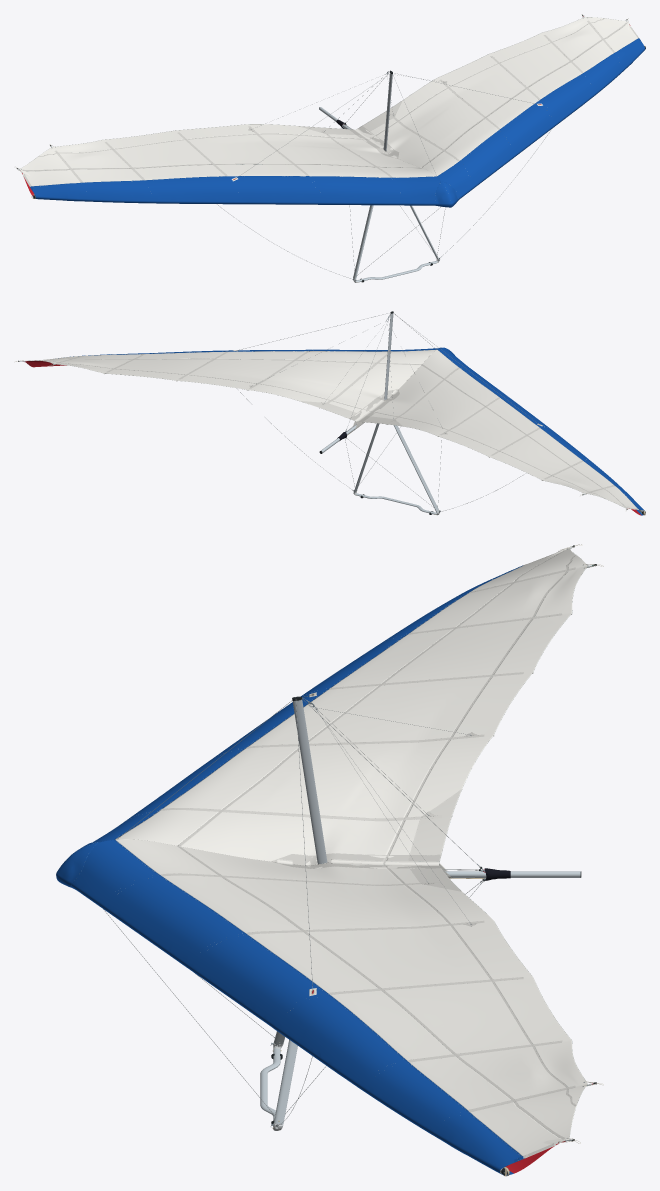
3 views of the same model, one above another, from view 1: azimuth 30°, elevation 25°; view 2: azimuth 150°, elevation 25°; view 3: azimuth 270°, elevation 25° (orthographic). The views are drawn at different scales.
Parts seen in each view (by area): view 1: R sail panel 1, L sail panel 3, R sail panel 3, L sail panel 1, R sail panel 2, L sail panel 2, L sail panel 4, R sail panel 4, R main panel closure upper sewing, Removable nose cone, R leading edge overlay upper sewing, R aft panel lap upper sewing (+1 smaller); view 2: L sail panel 3, R sail panel 3, R sail panel 2, L sail panel 2, L sail panel 4, R sail panel 4, R sail panel 1, L sail panel 1, L main panel closure upper sewing, R control frame upright, R main panel closure upper sewing, L aft panel lap upper sewing (+1 smaller); view 3: R sail panel 3, L sail panel 3, L sail panel 1, L sail panel 2, R sail panel 2, R sail panel 4, L sail panel 4, R sail panel 1, Streamlined kingpost, L main panel closure upper sewing, R main panel closure upper sewing.
Boxes of the visible parts, box(x1,y1,x2,y2) form: R sail panel 1: box(22, 173, 440, 205); L sail panel 3: box(372, 18, 627, 167); R sail panel 3: box(19, 134, 419, 170); L sail panel 1: box(437, 24, 645, 199); R sail panel 2: box(20, 164, 436, 186); L sail panel 2: box(422, 22, 637, 175); L sail panel 4: box(358, 17, 603, 137); R sail panel 4: box(39, 124, 365, 155); R main panel closure upper sewing: box(22, 163, 419, 171); Removable nose cone: box(435, 181, 458, 207); R leading edge overlay upper sewing: box(32, 176, 436, 186); R aft panel lap upper sewing: box(38, 133, 369, 156); L sail panel 3: box(21, 358, 421, 410); R sail panel 3: box(373, 364, 627, 508); R sail panel 2: box(422, 350, 638, 509); L sail panel 2: box(24, 349, 436, 364); L sail panel 4: box(44, 361, 366, 420); R sail panel 4: box(359, 412, 602, 497); R sail panel 1: box(438, 348, 644, 515); L sail panel 1: box(25, 348, 441, 366); L main panel closure upper sewing: box(48, 358, 420, 364); R control frame upright: box(394, 425, 439, 512); R main panel closure upper sewing: box(421, 364, 626, 507); L aft panel lap upper sewing: box(45, 360, 369, 411); R sail panel 3: box(177, 548, 576, 865); L sail panel 3: box(177, 846, 576, 1140); L sail panel 1: box(72, 839, 565, 1175); L sail panel 2: box(115, 839, 565, 1158); R sail panel 2: box(115, 548, 565, 845); R sail panel 4: box(386, 555, 587, 861); L sail panel 4: box(387, 865, 587, 1105); R sail panel 1: box(93, 566, 521, 842); Streamlined kingpost: box(292, 699, 327, 863); L main panel closure upper sewing: box(179, 846, 564, 1138); R main panel closure upper sewing: box(179, 550, 564, 845).
Size of the model in its own units: 9.19 by 2.83 by 3.55.
Materials: 74 (4 with a texture image).
